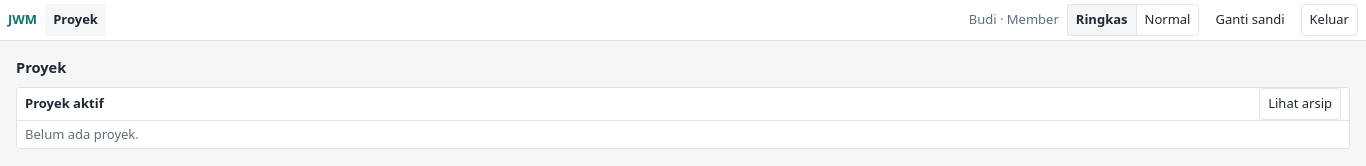
pilihan kepadatan › dikembalikan bila server menolak
Click the button "Normal" at (1167, 20), box [1136,4,1199,36]
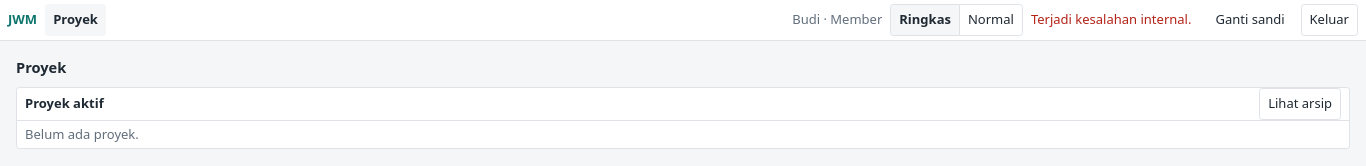
Now the message reads "Terjadi kesalahan internal.", box [1031,10,1191,28]
